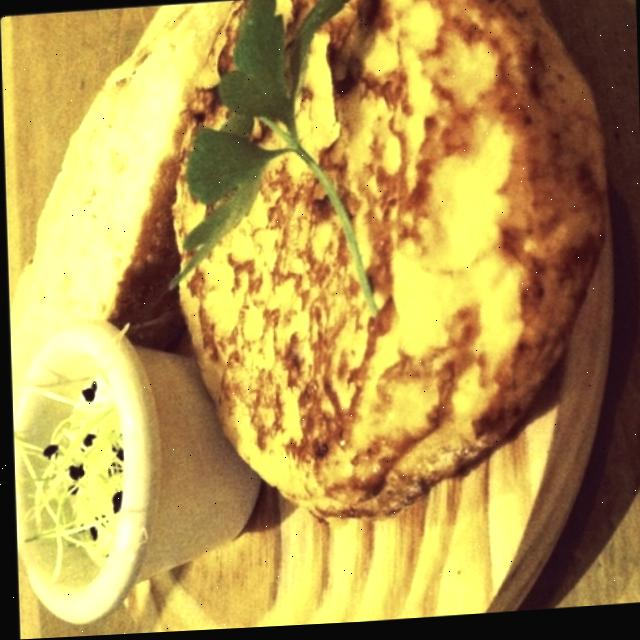面包点心: (131, 0, 598, 532)
